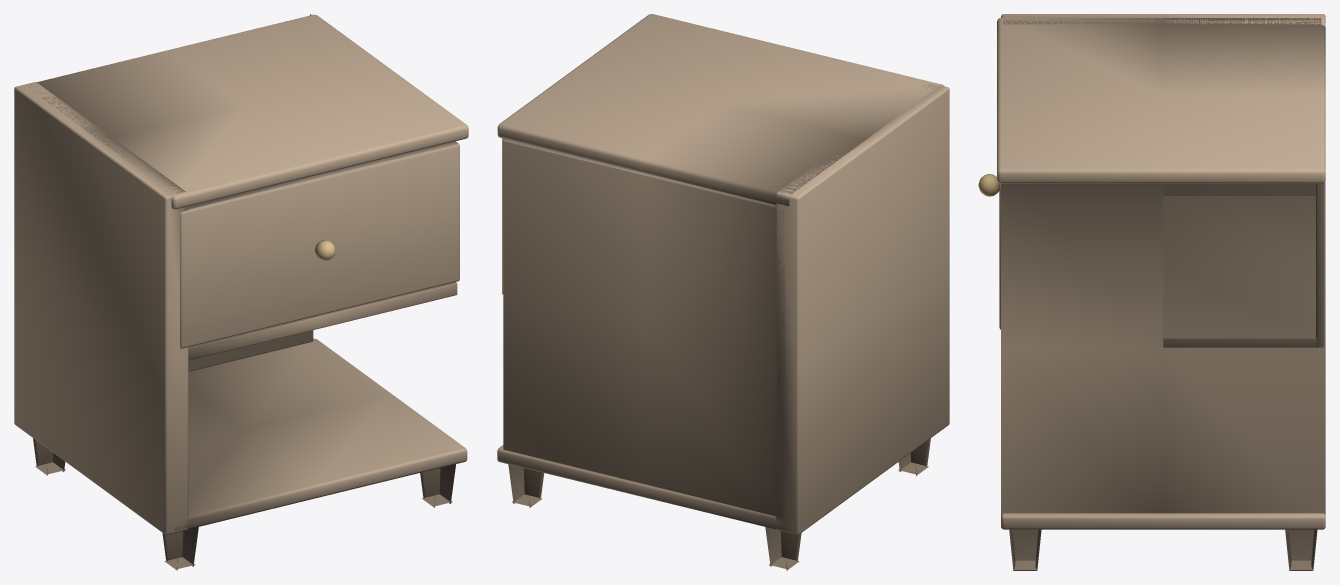
File: nightstand.glb
3 views of the same model, side by side, from view 1: azimuth 30°, elevation 25°; view 2: azimuth 150°, elevation 25°; view 3: azimuth 270°, elevation 25° (orthographic). The views are drawn at different scales.
Visible parts, largest first — view 1: p_nightstand; view 2: p_nightstand; view 3: p_nightstand.
Boxes of the visible parts, x1=… form: p_nightstand: x1=14, y1=14, x2=468, y2=570; p_nightstand: x1=497, y1=14, x2=949, y2=570; p_nightstand: x1=978, y1=14, x2=1325, y2=570.
Size of the model in its own units: 0.459 by 0.5528 by 0.428.
